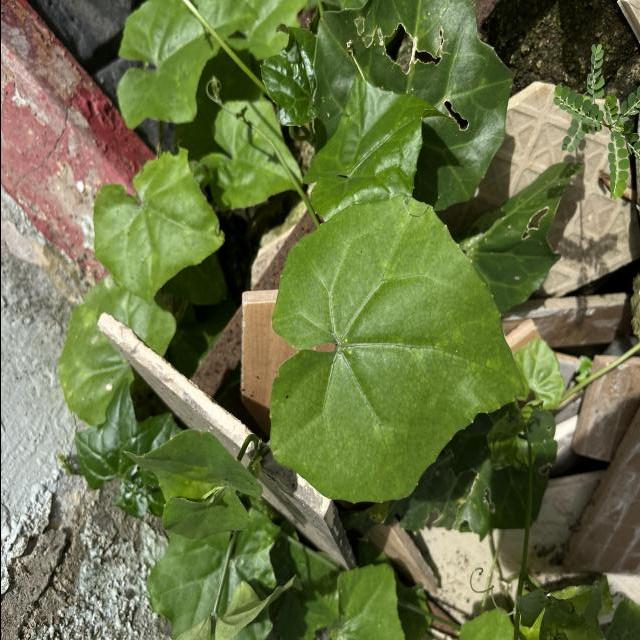Coccinia grandis: (266, 190, 528, 507)
